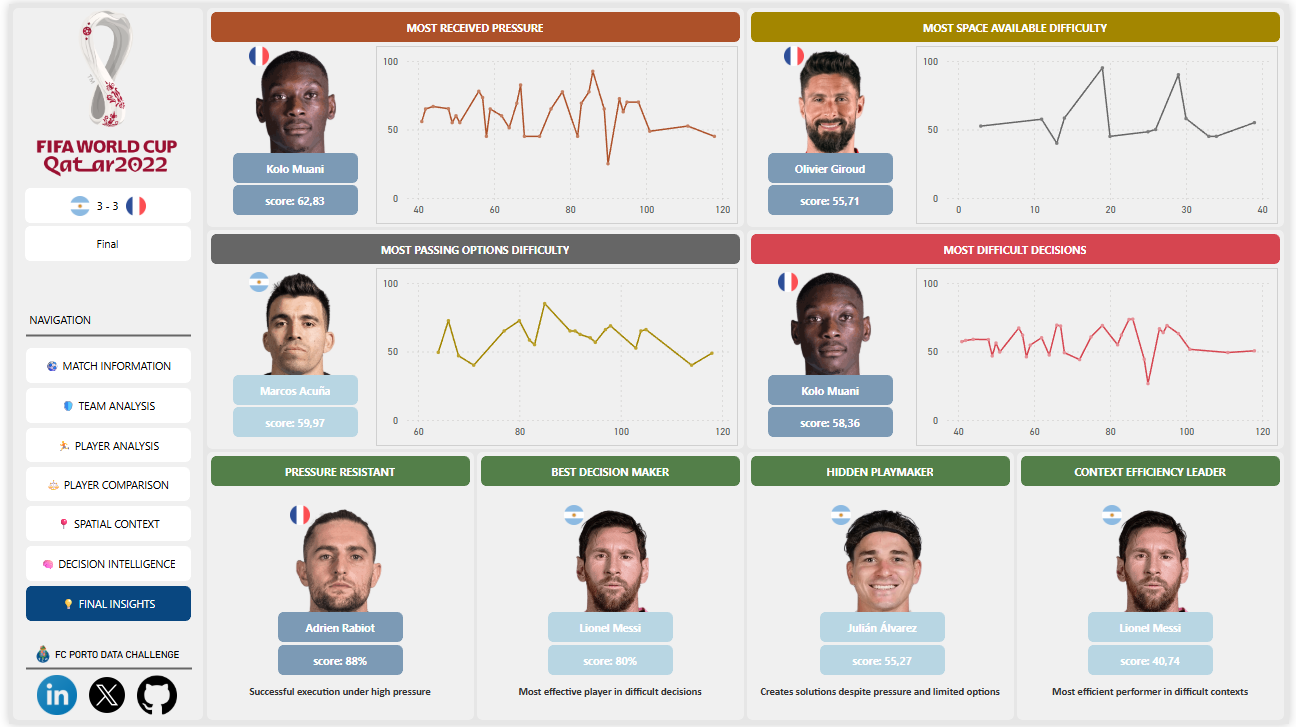

What the dashboard file says about the page in this screenshot:
{"tool":"powerbi","page":{"name":"final insights","canvas":[1280,720],"ordinal":6},"visuals":[{"type":"shape","box":[4,4,190,712],"z":0},{"type":"image","box":[4,4,189,170],"z":1000},{"type":"actionButton","title":"Botão Ativo Acumulado","box":[16,184,166,35],"z":2000},{"type":"actionButton","title":"Botão Ativo Acumulado","box":[16,222,166,35],"z":3000},{"type":"actionButton","title":"Botão Ativo Acumulado","box":[16.6,344.1,165,35],"z":4000},{"type":"actionButton","title":"Botão Ativo Acumulado","box":[16.7,383.9,165.7,35],"z":5000},{"type":"actionButton","title":"Botão Ativo Acumulado","box":[17,424,165,34],"z":6000},{"type":"actionButton","title":"Botão Ativo Acumulado","box":[17,463,164,34],"z":7000},{"type":"actionButton","title":"Botão Ativo Acumulado","box":[17,502,165,35],"z":8000},{"type":"shape","box":[16.6,302,165.6,58.9],"z":9000},{"type":"actionButton","title":"Botão Ativo Acumulado","box":[10.1,300,83,30],"z":10000},{"type":"actionButton","title":"Botão Ativo Acumulado","box":[17,542,165,35],"z":11000},{"type":"actionButton","title":"Botão Ativo Acumulado","box":[17,582,165,35],"z":12000},{"type":"shape","box":[17,635,166,59],"z":13000},{"type":"image","box":[28.4,671,40,40],"z":14000},{"type":"image","box":[128.4,671,40,40],"z":15000},{"type":"image","box":[78.4,671,40,40],"z":16000},{"type":"shape","box":[198,448,267,268],"z":17000},{"type":"image","box":[117,192,20,20],"z":18000},{"type":"image","box":[61,192,20,20],"z":19000},{"type":"shape","box":[198,4,537,219],"z":20000},{"type":"shape","box":[738,4,537,219],"z":21000},{"type":"shape","box":[198,226,537,219],"z":22000},{"type":"shape","box":[738,226,537,219],"z":23000},{"type":"actionButton","title":"Botão Ativo Acumulado","box":[202,8,529,30],"z":24000},{"type":"actionButton","title":"Botão Ativo Acumulado","box":[742,8,529,30],"z":25000},{"type":"actionButton","title":"Botão Ativo Acumulado","box":[202,230,529,30],"z":26000},{"type":"actionButton","title":"Botão Ativo Acumulado","box":[742,230,529,30],"z":27000},{"type":"actionButton","title":"Botão Ativo Acumulado","box":[202,452,259,30],"z":28000},{"type":"lineChart","title":"decision difficulty","fields":{"Category":["fct_events.minute"],"Y":["Avg(fct_events.decision_difficulty_score)"]},"box":[907,264,362,178],"z":29000},{"type":"image","box":[235,260,104,119],"z":30000},{"type":"image","box":[770,260,104,119],"z":31000},{"type":"image","box":[235,38,104,119],"z":32000},{"type":"image","box":[770,38,104,119],"z":33000},{"type":"lineChart","title":"space availa","fields":{"Category":["fct_events.minute"],"Y":["Avg(fct_events.space_difficulty_score)"]},"box":[907,42,362,178],"z":34000},{"type":"lineChart","title":"passing opt","fields":{"Category":["fct_events.minute"],"Y":["Avg(fct_events.passing_options_difficulty_score)"]},"box":[367,264,362,178],"z":35000},{"type":"lineChart","fields":{"Category":["fct_events.minute"],"Y":["Avg(fct_events.receiver_pressure_score)"]},"box":[367,42,362,178],"z":36000},{"type":"actionButton","title":"Botão Ativo Acumulado","box":[224,149,125,30],"z":41000},{"type":"actionButton","title":"Botão Ativo Acumulado","box":[224,181,125,30],"z":42000},{"type":"actionButton","title":"Botão Ativo Acumulado","box":[759,149,125,30],"z":43000},{"type":"actionButton","title":"Botão Ativo Acumulado","box":[759,181,125,30],"z":44000},{"type":"actionButton","title":"Botão Ativo Acumulado","box":[224,371,125,30],"z":45000},{"type":"actionButton","title":"Botão Ativo Acumulado","box":[224,403,125,30],"z":46000},{"type":"actionButton","title":"Botão Ativo Acumulado","box":[759,371,125,30],"z":47000},{"type":"actionButton","title":"Botão Ativo Acumulado","box":[759,403,125,30],"z":48000},{"type":"image","box":[240,268,20,20],"z":49000},{"type":"image","box":[240,42,20,20],"z":50000},{"type":"image","box":[775,42,20,20],"z":51000},{"type":"image","box":[769,268,20,20],"z":52000},{"type":"actionButton","title":"Botão Ativo Acumulado","box":[198,672,267,30],"z":53000},{"type":"shape","box":[468,448,267,268],"z":54000},{"type":"shape","box":[1008,448,267,268],"z":55000},{"type":"shape","box":[738,448,267,268],"z":56000},{"type":"actionButton","title":"Botão Ativo Acumulado","box":[472,452,259,30],"z":57000},{"type":"actionButton","title":"Botão Ativo Acumulado","box":[742,452,259,30],"z":58000},{"type":"actionButton","title":"Botão Ativo Acumulado","box":[1012,452,259,30],"z":59000},{"type":"image","box":[280,497,104,119],"z":60000},{"type":"image","box":[550,497,104,119],"z":61000},{"type":"image","box":[822,497,104,119],"z":62000},{"type":"image","box":[1090,497,104,119],"z":63000},{"type":"image","box":[555,501,20,20],"z":64000},{"type":"actionButton","title":"Botão Ativo Acumulado","box":[539,608,125,30],"z":65000},{"type":"image","box":[822,501,20,20],"z":66000},{"type":"actionButton","title":"Botão Ativo Acumulado","box":[811,608,125,30],"z":67000},{"type":"actionButton","title":"Botão Ativo Acumulado","box":[269,608,125,30],"z":68000},{"type":"image","box":[281,501,20,20],"z":69000},{"type":"actionButton","title":"Botão Ativo Acumulado","box":[1079,608,125,30],"z":70000},{"type":"image","box":[1093,501,20,20],"z":71000},{"type":"actionButton","title":"Botão Ativo Acumulado","box":[269,641,125,30],"z":72000},{"type":"actionButton","title":"Botão Ativo Acumulado","box":[539,641,125,30],"z":73000},{"type":"actionButton","title":"Botão Ativo Acumulado","box":[811,641,125,30],"z":74000},{"type":"actionButton","title":"Botão Ativo Acumulado","box":[1079,641,125,30],"z":75000},{"type":"actionButton","title":"Botão Ativo Acumulado","box":[468,672,267,30],"z":76000},{"type":"actionButton","title":"Botão Ativo Acumulado","box":[738,672,267,30],"z":77000},{"type":"actionButton","title":"Botão Ativo Acumulado","box":[1008,672,267,30],"z":78000},{"type":"actionButton","title":"Botão Ativo Acumulado","box":[37,635,143,30],"z":79000},{"type":"image","box":[25,641,18,18],"z":80000}]}

Visuals, with their boxes in screenshot pixels (x1, y1, x2, y2), scaled from the page's 1280x720 canvas onto the 1296x727 screenshot:
shape: 4/4/196/723
image: 4/4/195/176
"Botão Ativo Acumulado" actionButton: 16/186/184/221
"Botão Ativo Acumulado" actionButton: 16/224/184/259
"Botão Ativo Acumulado" actionButton: 17/347/184/383
"Botão Ativo Acumulado" actionButton: 17/388/185/423
"Botão Ativo Acumulado" actionButton: 17/428/184/462
"Botão Ativo Acumulado" actionButton: 17/468/183/502
"Botão Ativo Acumulado" actionButton: 17/507/184/542
shape: 17/305/184/364
"Botão Ativo Acumulado" actionButton: 10/303/94/333
"Botão Ativo Acumulado" actionButton: 17/547/184/583
"Botão Ativo Acumulado" actionButton: 17/588/184/623
shape: 17/641/185/701
image: 29/678/69/718
image: 130/678/171/718
image: 79/678/120/718
shape: 200/452/471/723
image: 118/194/139/214
image: 62/194/82/214
shape: 200/4/744/225
shape: 747/4/1291/225
shape: 200/228/744/449
shape: 747/228/1291/449
"Botão Ativo Acumulado" actionButton: 205/8/740/38
"Botão Ativo Acumulado" actionButton: 751/8/1287/38
"Botão Ativo Acumulado" actionButton: 205/232/740/263
"Botão Ativo Acumulado" actionButton: 751/232/1287/263
"Botão Ativo Acumulado" actionButton: 205/456/467/487
"decision difficulty" lineChart: 918/267/1285/446
image: 238/263/343/383
image: 780/263/885/383
image: 238/38/343/159
image: 780/38/885/159
"space availa" lineChart: 918/42/1285/222
"passing opt" lineChart: 372/267/738/446
lineChart - fct_events.minute x Avg(fct_events.receiver_pressure_score): 372/42/738/222
"Botão Ativo Acumulado" actionButton: 227/150/353/181
"Botão Ativo Acumulado" actionButton: 227/183/353/213
"Botão Ativo Acumulado" actionButton: 768/150/895/181
"Botão Ativo Acumulado" actionButton: 768/183/895/213
"Botão Ativo Acumulado" actionButton: 227/375/353/405
"Botão Ativo Acumulado" actionButton: 227/407/353/437
"Botão Ativo Acumulado" actionButton: 768/375/895/405
"Botão Ativo Acumulado" actionButton: 768/407/895/437
image: 243/271/263/291
image: 243/42/263/63
image: 785/42/805/63
image: 779/271/799/291
"Botão Ativo Acumulado" actionButton: 200/679/471/709
shape: 474/452/744/723
shape: 1021/452/1291/723
shape: 747/452/1018/723
"Botão Ativo Acumulado" actionButton: 478/456/740/487
"Botão Ativo Acumulado" actionButton: 751/456/1014/487
"Botão Ativo Acumulado" actionButton: 1025/456/1287/487
image: 284/502/389/622
image: 557/502/662/622
image: 832/502/938/622
image: 1104/502/1209/622
image: 562/506/582/526
"Botão Ativo Acumulado" actionButton: 546/614/672/644
image: 832/506/853/526
"Botão Ativo Acumulado" actionButton: 821/614/948/644
"Botão Ativo Acumulado" actionButton: 272/614/399/644
image: 285/506/305/526
"Botão Ativo Acumulado" actionButton: 1092/614/1219/644
image: 1107/506/1127/526
"Botão Ativo Acumulado" actionButton: 272/647/399/678
"Botão Ativo Acumulado" actionButton: 546/647/672/678
"Botão Ativo Acumulado" actionButton: 821/647/948/678
"Botão Ativo Acumulado" actionButton: 1092/647/1219/678
"Botão Ativo Acumulado" actionButton: 474/679/744/709
"Botão Ativo Acumulado" actionButton: 747/679/1018/709
"Botão Ativo Acumulado" actionButton: 1021/679/1291/709
"Botão Ativo Acumulado" actionButton: 37/641/182/671
image: 25/647/44/665
